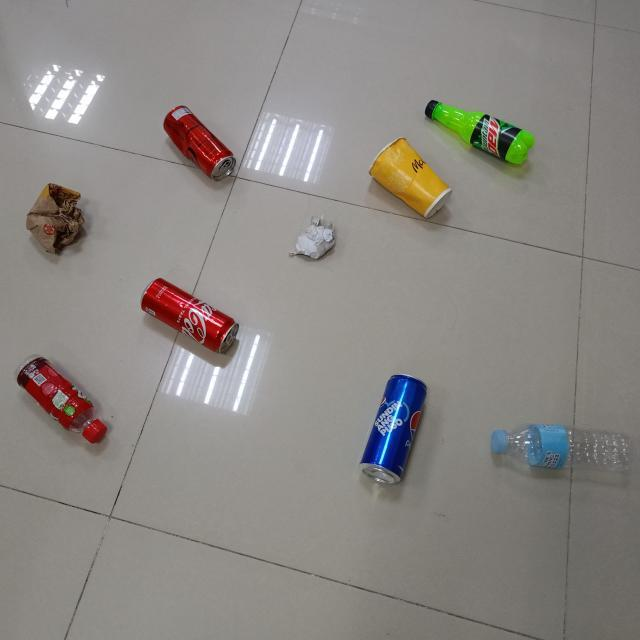recyclable waste: (9, 347, 110, 447), (485, 418, 635, 482), (355, 369, 435, 488), (135, 272, 244, 358), (421, 93, 540, 170), (362, 132, 459, 224), (156, 100, 240, 184), (20, 177, 90, 257), (285, 213, 343, 262)
